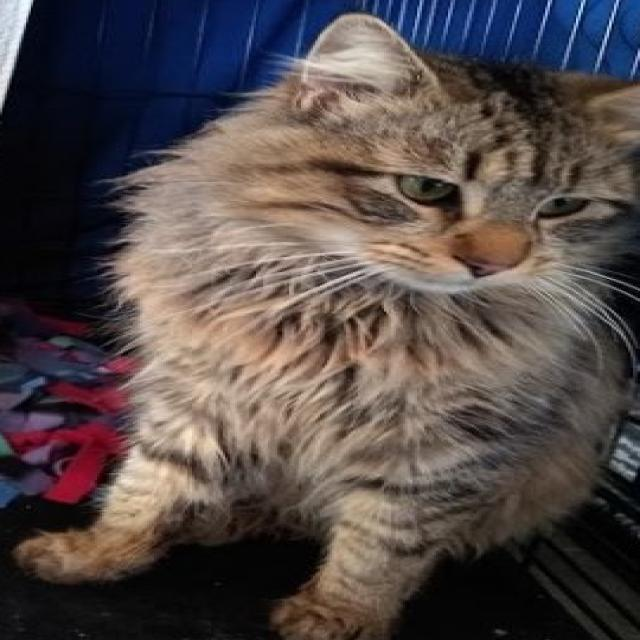Maine Coon: (14, 9, 640, 640)
